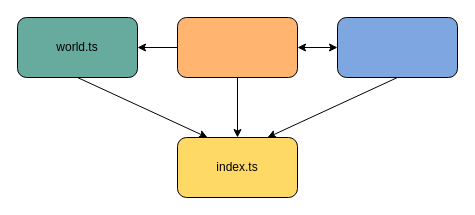
Image size: 475x215. Some labels were removed from this diagram. The box of each missing label's shape, as (x1, y1, x2, y2) in pixels:
actor.ts: (336, 16, 458, 78)
engine.ts: (176, 16, 298, 78)
